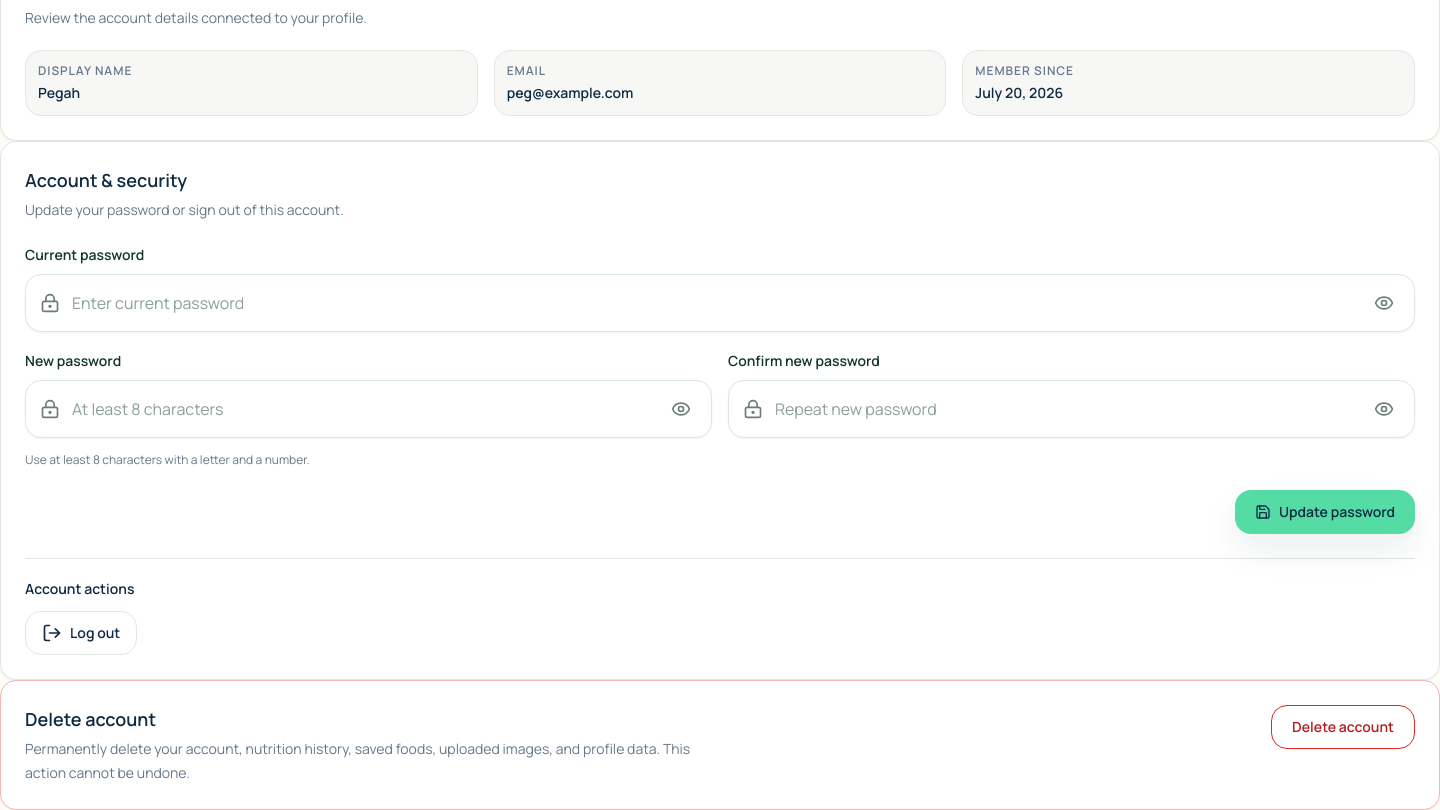
Test: ProfileContent delete account modal › closes on cancel without requesting account deletion
This screenshot has width=1440, height=810.
(page scrolled)
Click the button "Delete account" at (1343, 727), box [1271,705,1415,749]
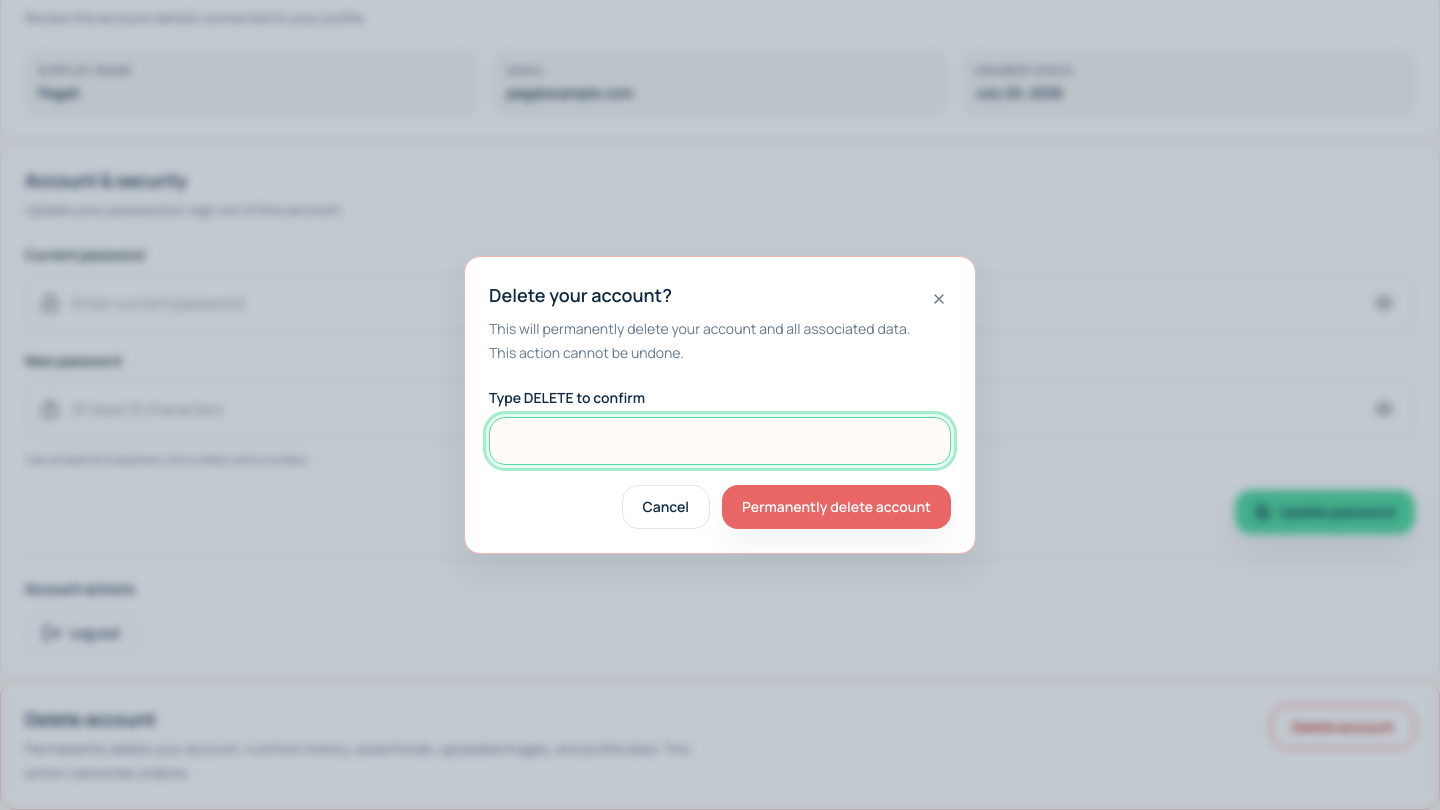
Click the button "Cancel" at (666, 507), box [622,485,710,529]
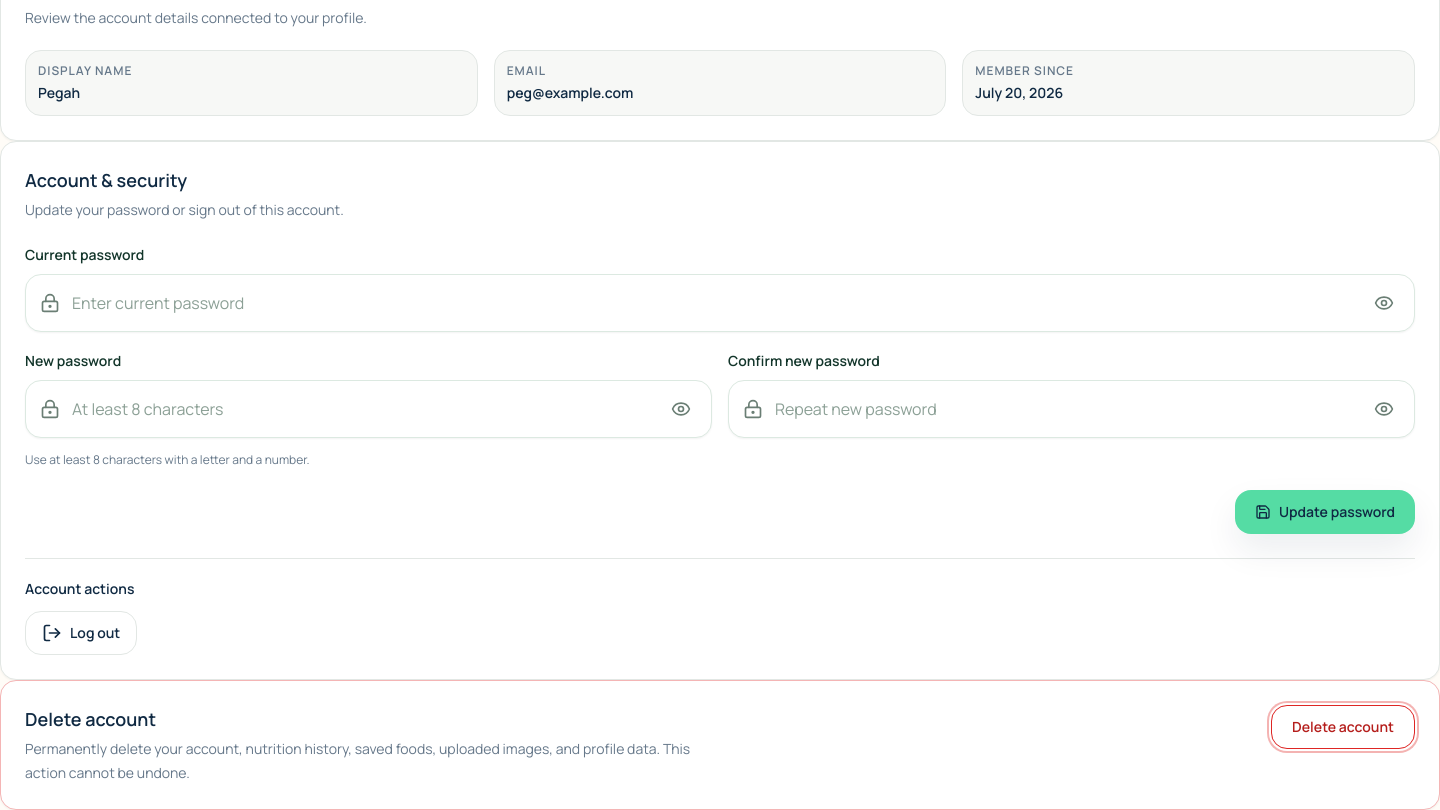
Check: the dialog is gone
